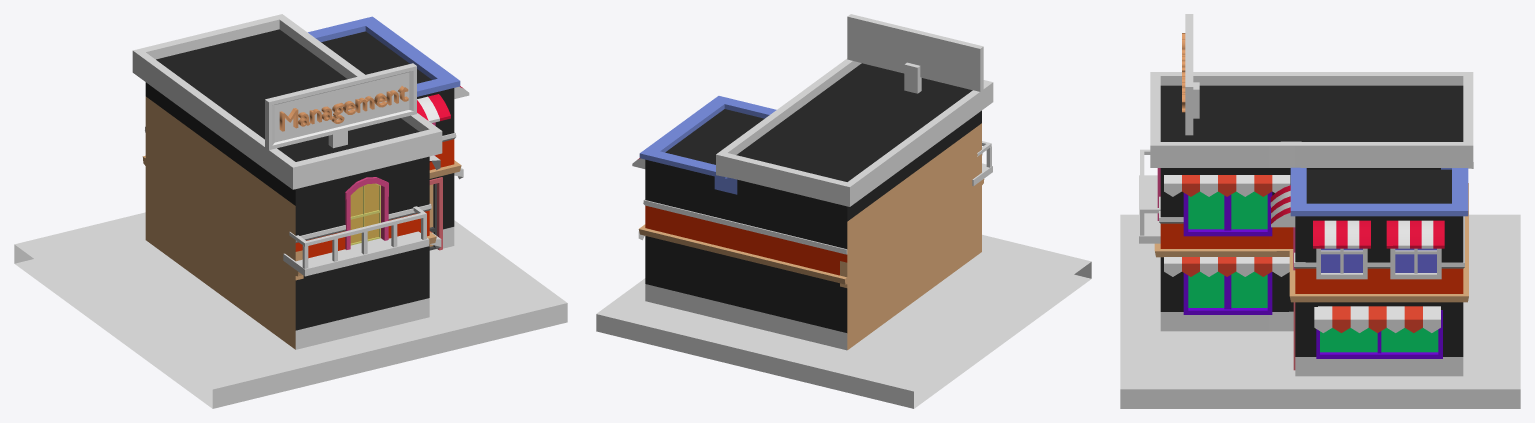
Rendered from Managment_building.fbx.
3 views of the same model, side by side, from view 1: azimuth 30°, elevation 25°; view 2: azimuth 150°, elevation 25°; view 3: azimuth 270°, elevation 25° (orthographic). The views are drawn at different scales.
Visible parts, largest first — view 1: Plane.001, Cube, Cube.004, Cube.001, Text, Plane.011, Plane.010, Cube.003, Cube.002, Plane.009; view 2: Plane.001, Cube, Cube.004; view 3: Plane.001, Cube, Plane.012, Plane.016, Plane.014, Plane, Plane.013, Plane.015, Plane.007, Plane.006, Plane.004, Plane.005 (+4 smaller).
Part boxes in pixels (<box>): Plane.001: <box>132,14,461,349</box>; Cube: <box>14,212,567,408</box>; Cube.004: <box>265,63,416,149</box>; Cube.001: <box>283,231,429,276</box>; Text: <box>279,86,408,131</box>; Plane.011: <box>350,183,380,245</box>; Plane.010: <box>345,177,388,249</box>; Cube.003: <box>289,206,426,246</box>; Cube.002: <box>302,217,426,268</box>; Plane.009: <box>417,94,450,123</box>; Plane.001: <box>638,58,993,350</box>; Cube: <box>596,234,1091,408</box>; Cube.004: <box>847,14,983,93</box>; Plane.001: <box>1150,72,1473,376</box>; Cube: <box>1120,214,1520,408</box>; Plane.012: <box>1183,191,1272,236</box>; Plane.016: <box>1316,310,1442,358</box>; Plane.014: <box>1183,271,1272,314</box>; Plane: <box>1314,306,1440,333</box>; Plane.013: <box>1164,175,1290,196</box>; Plane.015: <box>1164,257,1289,276</box>; Plane.007: <box>1386,220,1444,248</box>; Plane.006: <box>1313,220,1370,248</box>; Plane.004: <box>1390,248,1441,279</box>; Plane.005: <box>1316,248,1367,279</box>.
Bounding box in the file's own units: 1911 × 1346 × 1851.
